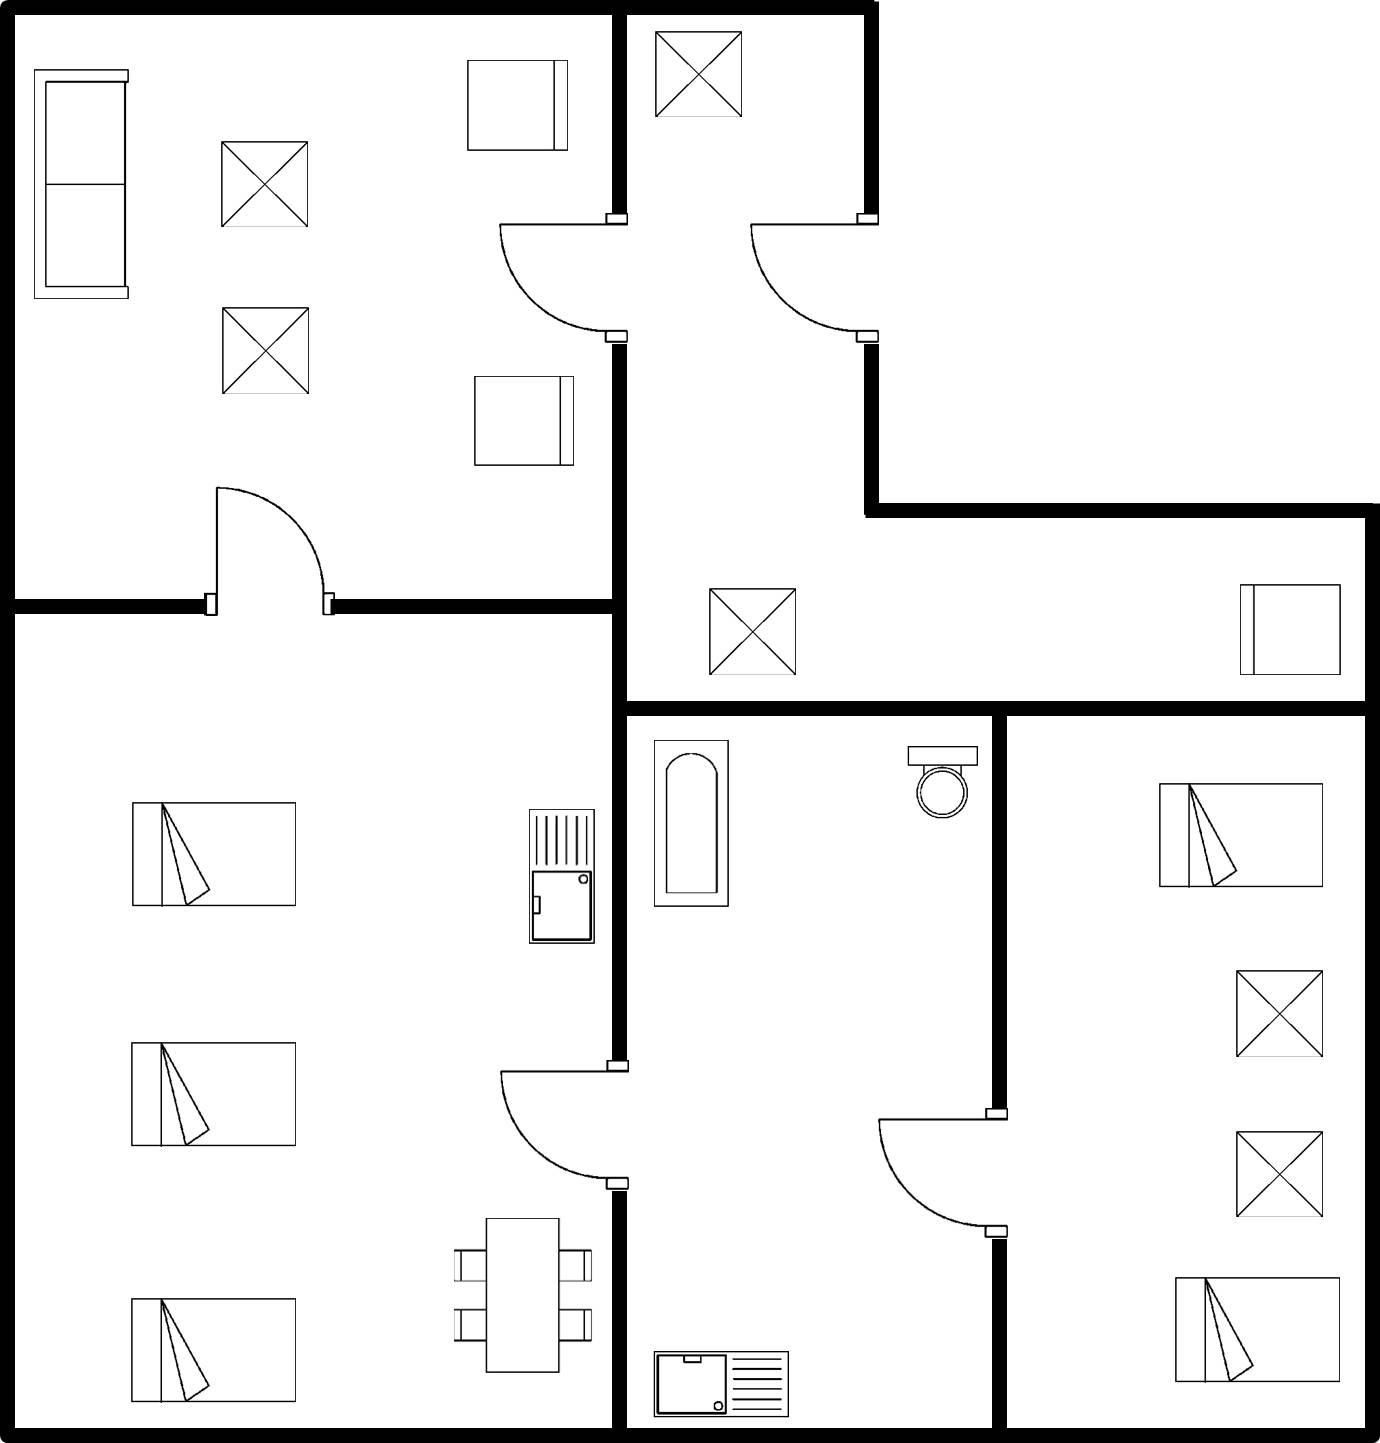bed: (121, 1028, 307, 1158), (1147, 769, 1332, 895), (119, 792, 307, 913), (120, 1288, 305, 1411)
dining_table: (437, 1209, 600, 1382)
sink: (642, 1339, 799, 1428), (514, 800, 603, 953)
sofa: (24, 58, 137, 304)
toilet: (894, 734, 984, 825)
tub: (639, 731, 738, 917)
